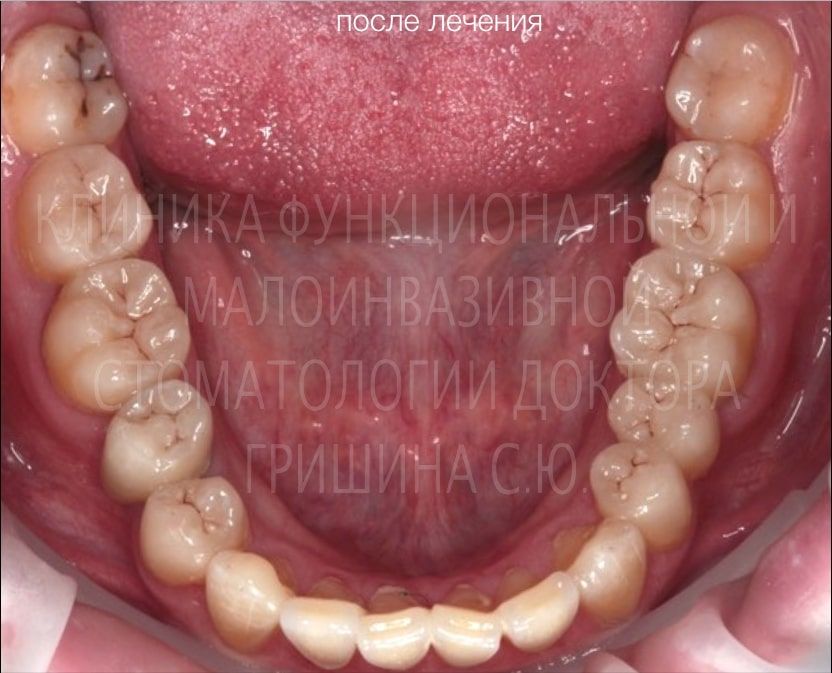LL1BC_decay: (587, 443, 693, 554)
LL1M_decay: (610, 251, 765, 398)
LL2BC_decay: (606, 380, 720, 450)
LL2M_decay: (646, 143, 779, 258)
LL3M_decay: (660, 14, 801, 138)
LLCI_healthy: (431, 583, 502, 673)
LLC_healthy: (568, 514, 648, 625)
LLLI_healthy: (498, 570, 579, 652)
LR1BC_decay: (140, 477, 245, 579)
LR1M_decay: (42, 257, 192, 417)
LR2BC_decay: (98, 377, 216, 504)
LR2M_decay: (16, 141, 155, 282)
LR3M_decay: (1, 23, 136, 150)
LRCI_healthy: (358, 581, 431, 668)
LRC_healthy: (206, 550, 296, 657)
LRLI_healthy: (281, 574, 366, 672)
